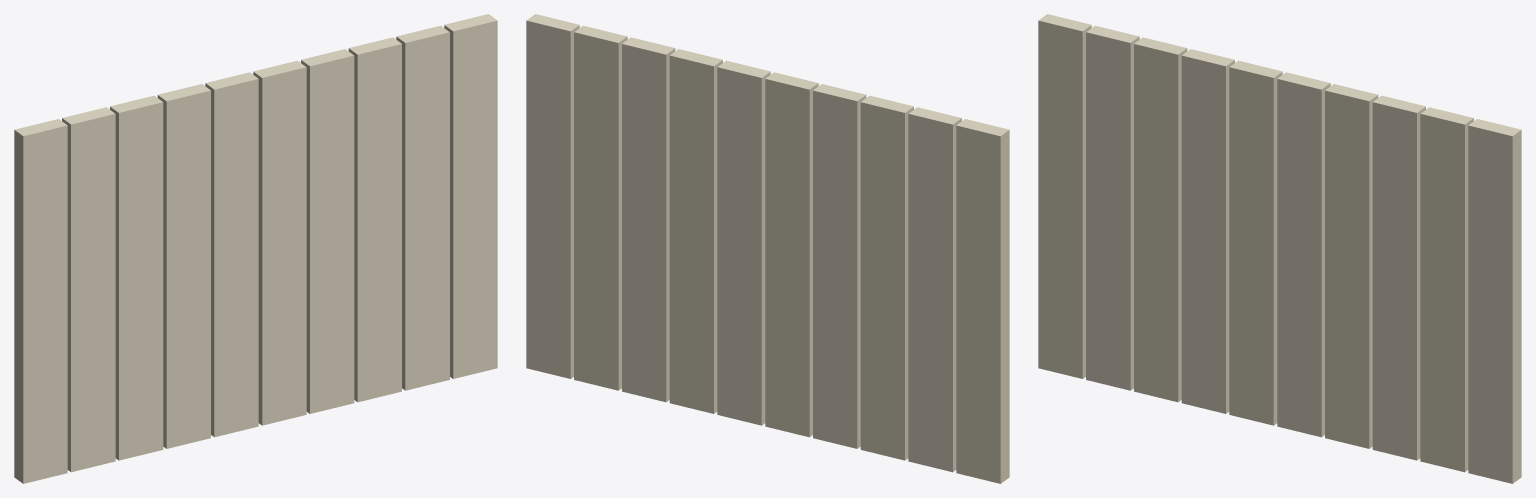
File: curtain.glb
3 renders of one model, left to right at view 1: azimuth 30°, elevation 25°; view 2: azimuth 150°, elevation 25°; view 3: azimuth 330°, elevation 25°, orthographic.
Parts seen in each view (by area): view 1: REF-L06-R01-curtain-part-1, REF-L06-R01-curtain-part-7, REF-L06-R01-curtain-part-2, REF-L06-R01-curtain-part-3, REF-L06-R01-curtain-part-6, REF-L06-R01-curtain-part-8, REF-L06-R01-curtain-part-10, REF-L06-R01-curtain-part-9, REF-L06-R01-curtain-part-4, REF-L06-R01-curtain-part-5; view 2: REF-L06-R01-curtain-part-1, REF-L06-R01-curtain-part-7, REF-L06-R01-curtain-part-2, REF-L06-R01-curtain-part-3, REF-L06-R01-curtain-part-6, REF-L06-R01-curtain-part-8, REF-L06-R01-curtain-part-10, REF-L06-R01-curtain-part-9, REF-L06-R01-curtain-part-4, REF-L06-R01-curtain-part-5; view 3: REF-L06-R01-curtain-part-10, REF-L06-R01-curtain-part-4, REF-L06-R01-curtain-part-9, REF-L06-R01-curtain-part-5, REF-L06-R01-curtain-part-8, REF-L06-R01-curtain-part-1, REF-L06-R01-curtain-part-3, REF-L06-R01-curtain-part-2, REF-L06-R01-curtain-part-6, REF-L06-R01-curtain-part-7.
Boxes of the visible parts, x1,y1,x2,y2 form: REF-L06-R01-curtain-part-1: [14, 119, 67, 483]; REF-L06-R01-curtain-part-7: [301, 49, 354, 413]; REF-L06-R01-curtain-part-2: [62, 107, 115, 472]; REF-L06-R01-curtain-part-3: [110, 95, 163, 460]; REF-L06-R01-curtain-part-6: [253, 60, 306, 425]; REF-L06-R01-curtain-part-8: [348, 37, 401, 402]; REF-L06-R01-curtain-part-10: [444, 14, 497, 378]; REF-L06-R01-curtain-part-9: [396, 25, 449, 390]; REF-L06-R01-curtain-part-4: [157, 84, 210, 448]; REF-L06-R01-curtain-part-5: [205, 72, 258, 437]; REF-L06-R01-curtain-part-1: [956, 119, 1009, 483]; REF-L06-R01-curtain-part-7: [669, 49, 722, 413]; REF-L06-R01-curtain-part-2: [908, 107, 961, 472]; REF-L06-R01-curtain-part-3: [860, 95, 913, 460]; REF-L06-R01-curtain-part-6: [717, 60, 770, 425]; REF-L06-R01-curtain-part-8: [622, 37, 675, 402]; REF-L06-R01-curtain-part-10: [526, 14, 579, 378]; REF-L06-R01-curtain-part-9: [574, 25, 627, 390]; REF-L06-R01-curtain-part-4: [813, 84, 866, 448]; REF-L06-R01-curtain-part-5: [765, 72, 818, 437]; REF-L06-R01-curtain-part-10: [1468, 119, 1521, 483]; REF-L06-R01-curtain-part-4: [1181, 49, 1234, 413]; REF-L06-R01-curtain-part-9: [1420, 107, 1473, 472]; REF-L06-R01-curtain-part-5: [1229, 60, 1282, 425]; REF-L06-R01-curtain-part-8: [1372, 95, 1425, 460]; REF-L06-R01-curtain-part-1: [1038, 14, 1091, 378]; REF-L06-R01-curtain-part-3: [1134, 37, 1187, 402]; REF-L06-R01-curtain-part-2: [1086, 25, 1139, 390]; REF-L06-R01-curtain-part-6: [1277, 72, 1330, 437]; REF-L06-R01-curtain-part-7: [1325, 84, 1378, 448].
Bounding box in the file's own units: 0.9136 × 0.64 × 0.03.
